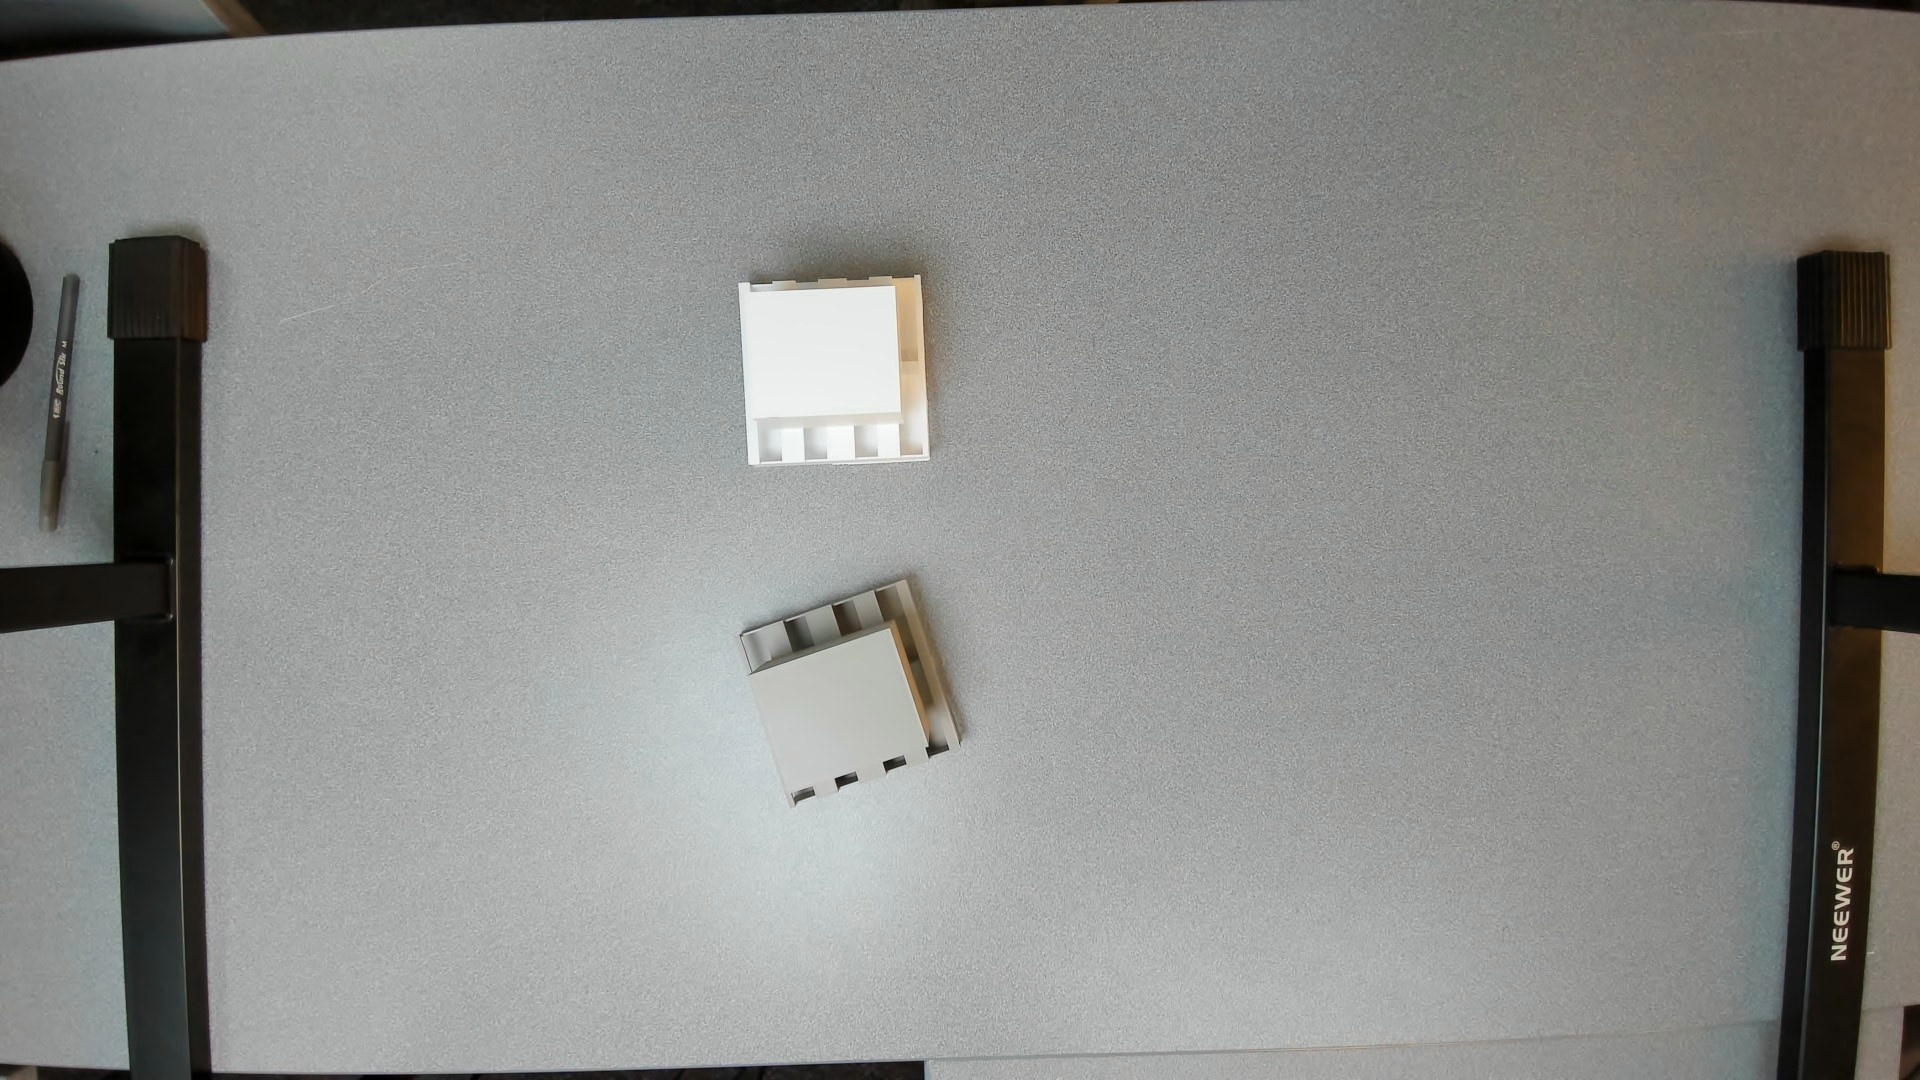grey pallet: (719, 567, 984, 814)
white pallet: (728, 262, 951, 473)
